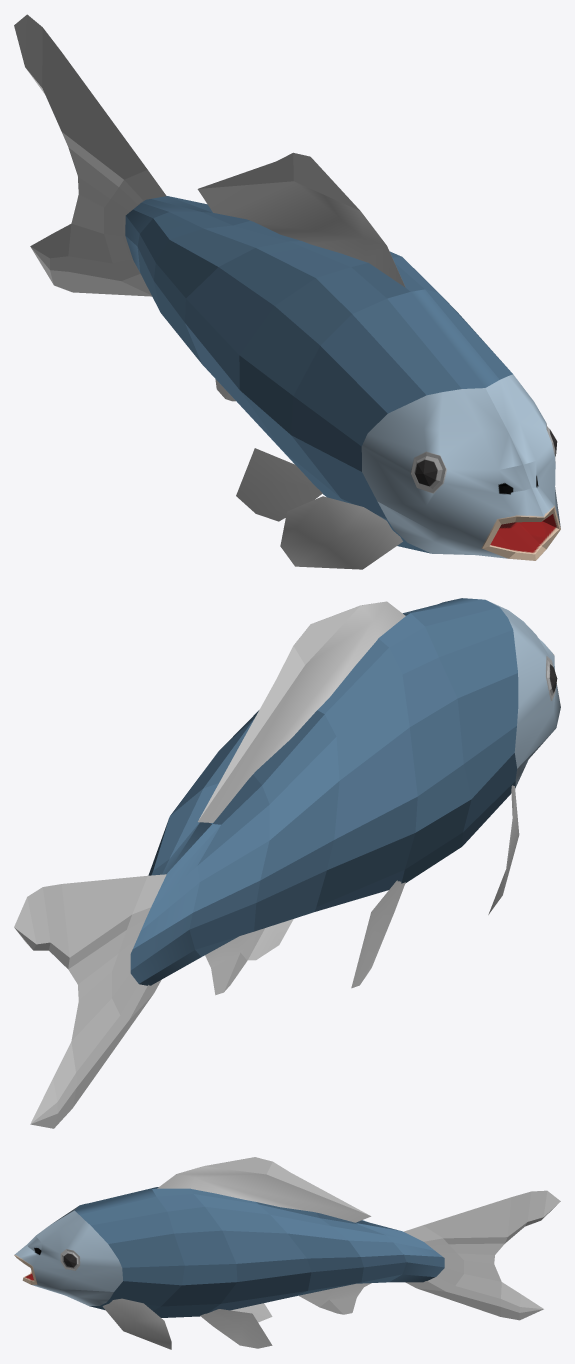
The model's file is Fish_Giant.glb.
3 renders of one model, top to bottom at view 1: azimuth 30°, elevation 25°; view 2: azimuth 150°, elevation 25°; view 3: azimuth 270°, elevation 25°, orthographic. The views are drawn at different scales.
Visible parts, largest first — view 1: finalfish; view 2: finalfish; view 3: finalfish.
Part boxes in pixels (x1,y1,x2,y2): finalfish: (14,14,560,569); finalfish: (14,598,560,1128); finalfish: (14,1157,560,1349).
Size of the model in its own units: 2.32 by 3.46 by 9.6.
3 materials, 1 textured.
